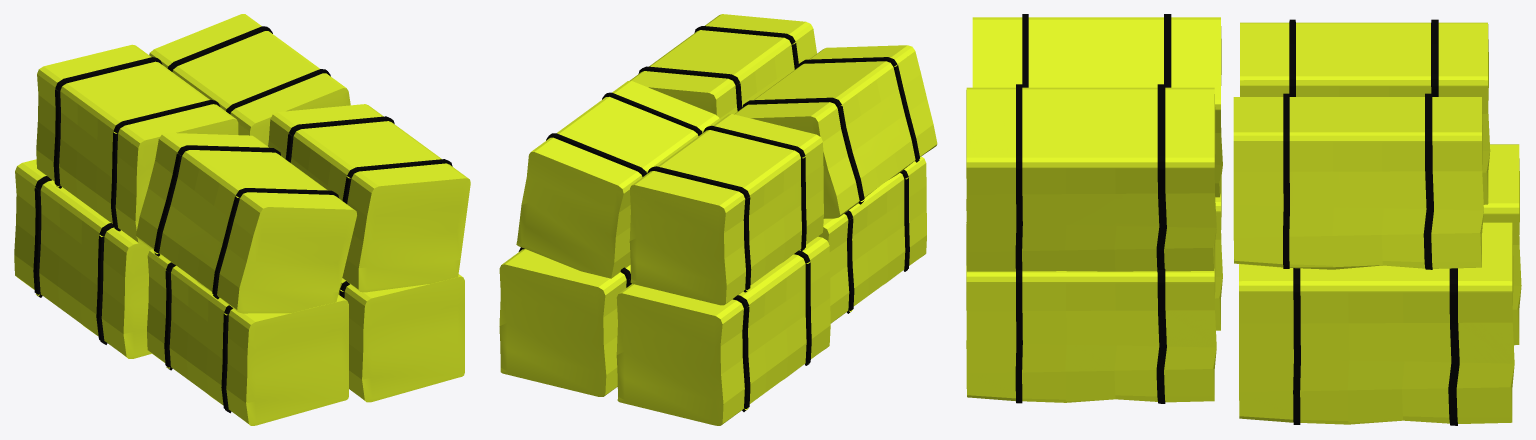
File: I_Hay_Pack.fbx
The picture shows the model from 3 angles, left to right: view 1: azimuth 30°, elevation 25°; view 2: azimuth 150°, elevation 25°; view 3: azimuth 270°, elevation 25°; orthographic projection. The views are drawn at different scales.
Parts seen in each view (by area): view 1: Cube.010; view 2: Cube.010; view 3: Cube.010.
Boxes of the visible parts, x1,y1,x2,y2 form: Cube.010: (14,14,470,425); Cube.010: (499,14,937,425); Cube.010: (966,14,1521,425).
Size of the model in its own units: 112 by 103 by 181.
